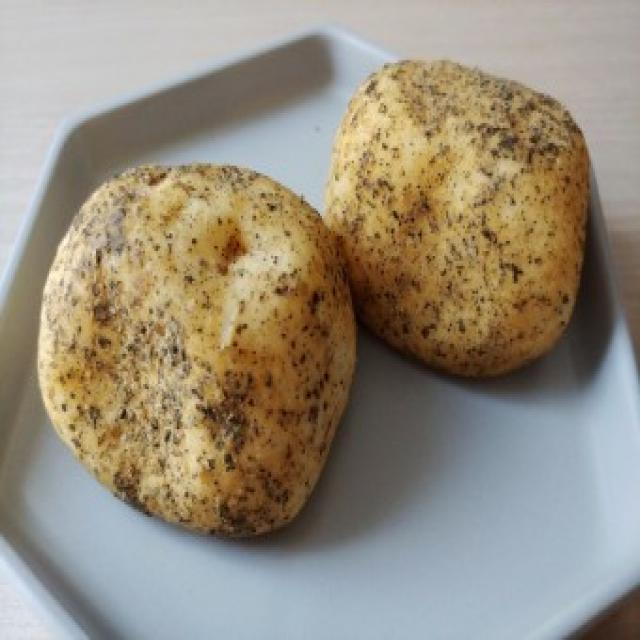potato: (38, 160, 362, 540), (328, 62, 592, 380)
